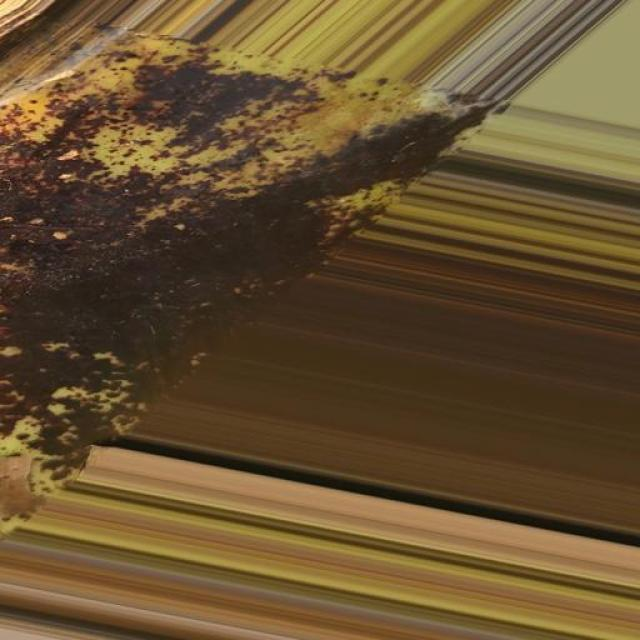Anthracnose: (0, 4, 506, 592)
